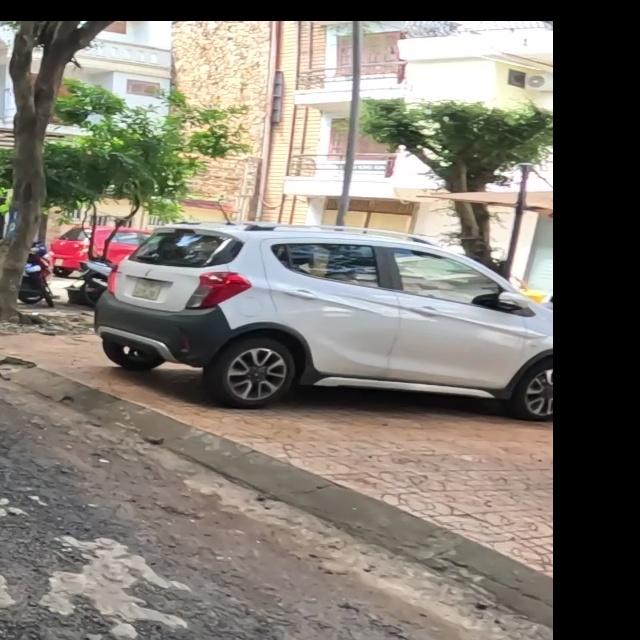license-plate: (131, 280, 163, 301)
